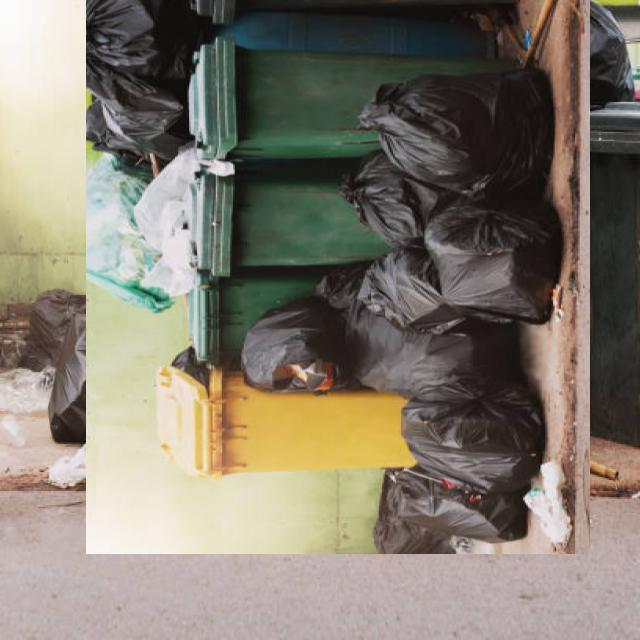Trashbag: (391, 55, 553, 203), (429, 185, 566, 322), (88, 3, 200, 157), (366, 454, 532, 554), (403, 374, 552, 476), (238, 284, 349, 393), (363, 240, 450, 335), (341, 154, 421, 236)
